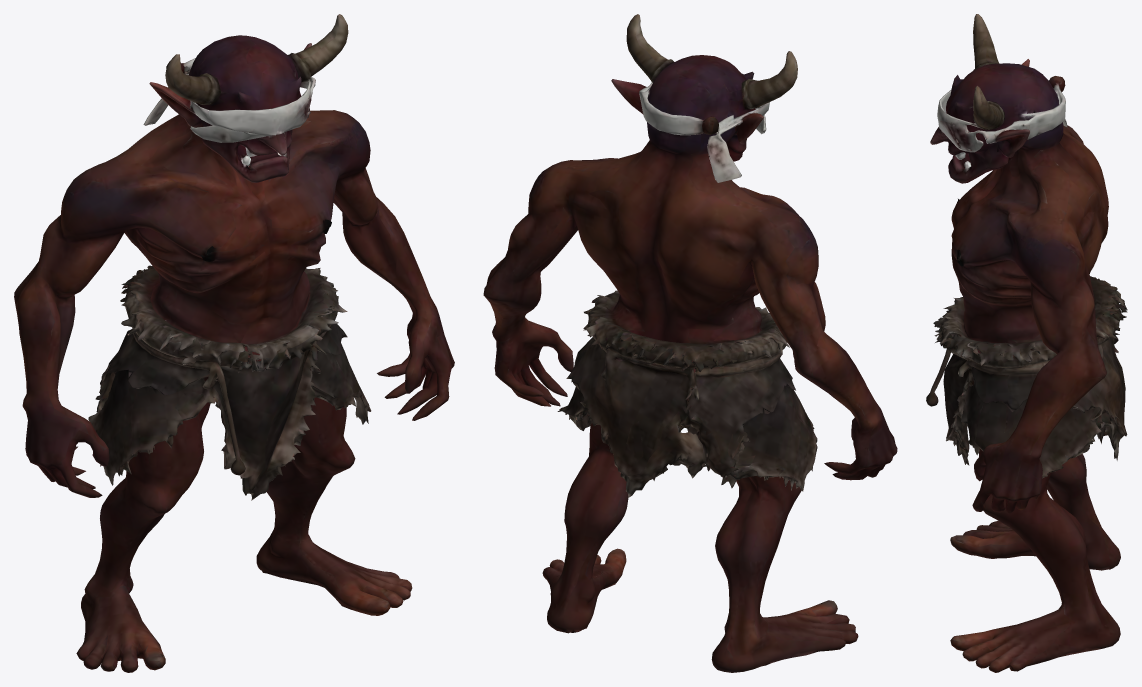
Rendered from mekakushi.glb.
3 renders of one model, left to right at view 1: azimuth 30°, elevation 25°; view 2: azimuth 150°, elevation 25°; view 3: azimuth 270°, elevation 25°, orthographic. The views are drawn at different scales.
Parts seen in each view (by area): view 1: doll; view 2: doll; view 3: doll.
Part boxes in pixels (left/top/right/bottom): doll: left=14, top=14, right=454, bottom=672; doll: left=483, top=14, right=897, bottom=672; doll: left=926, top=14, right=1127, bottom=672.
Size of the model in its own units: 0.7235 by 1 by 0.3302.
1 material, 1 textured.
